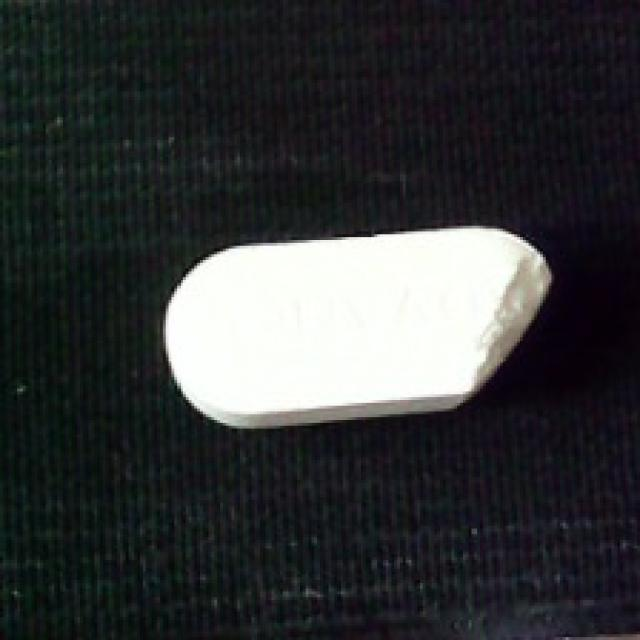defected: (160, 223, 560, 428)
